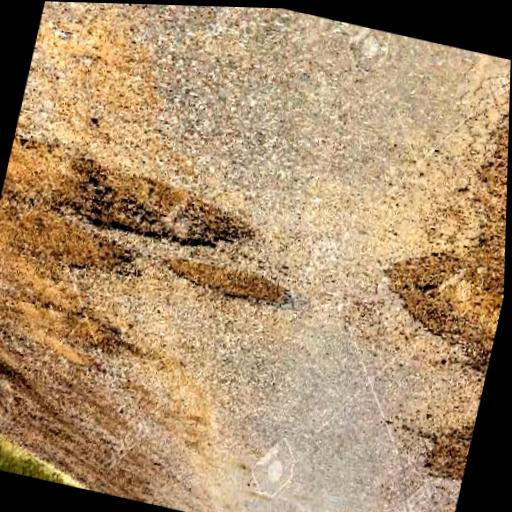pothole: (51, 145, 262, 266), (364, 221, 506, 378), (159, 251, 297, 317), (417, 413, 475, 489)
